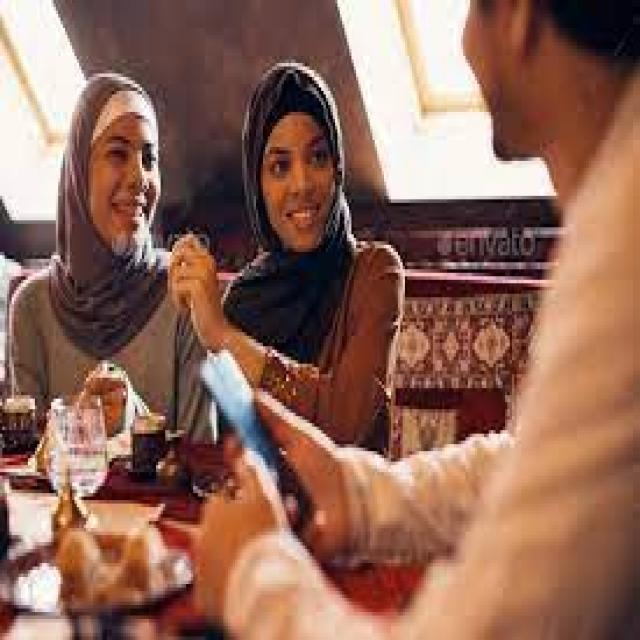Happy: (65, 72, 165, 258)
